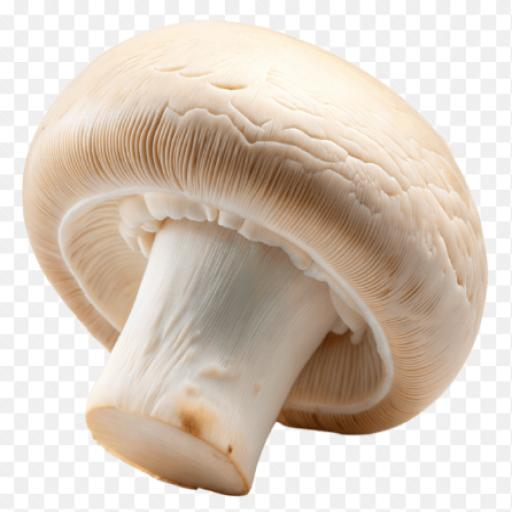Button Mushroom: (18, 17, 488, 498)
